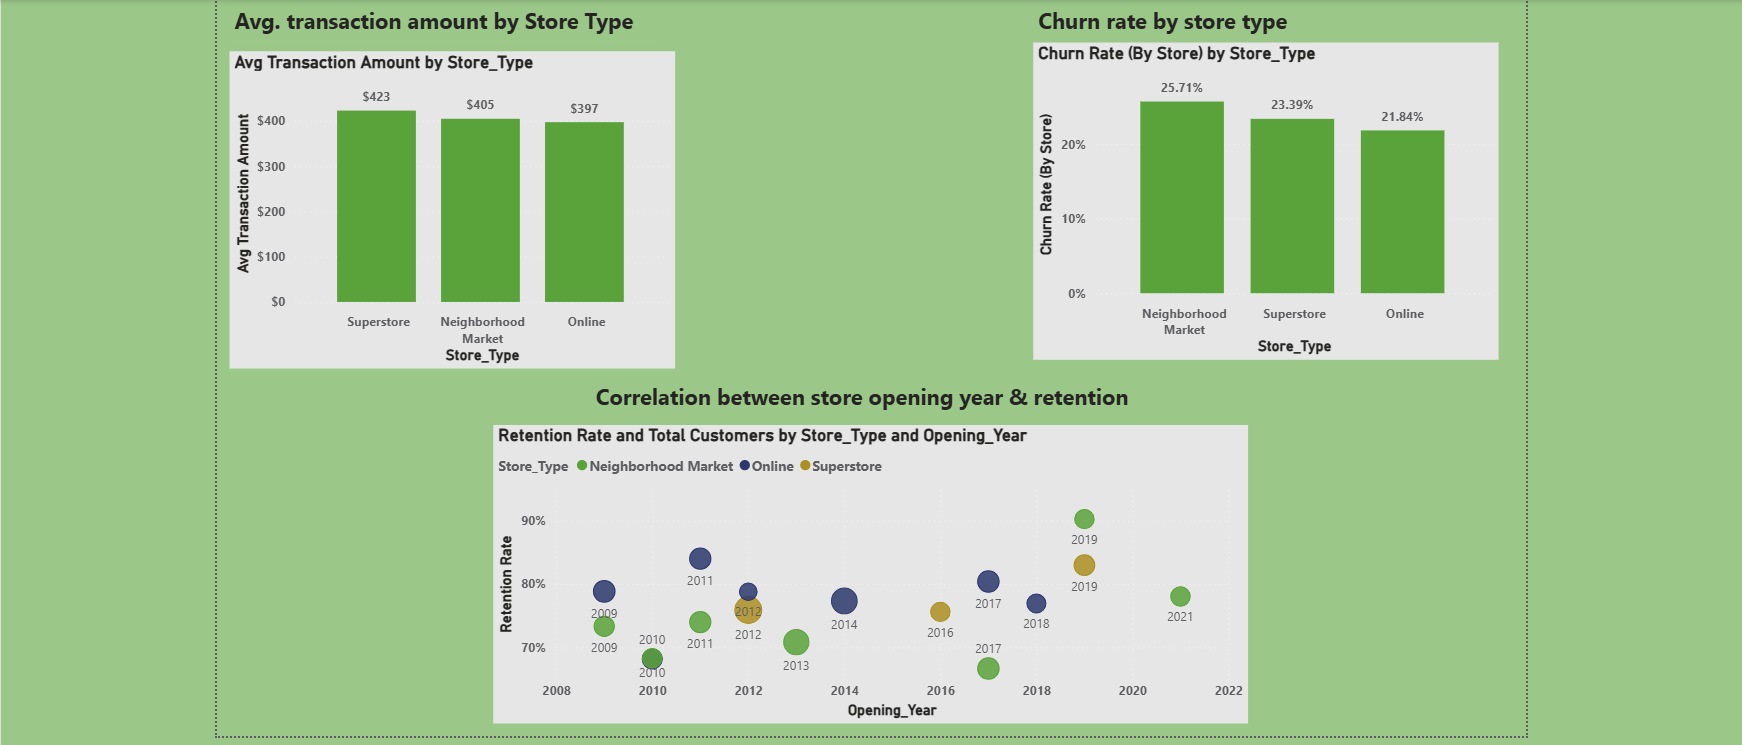

This screenshot's page, from the dashboard's own definition file:
{"tool":"powerbi","page":{"name":"Task 5","canvas":[1280,720],"ordinal":3},"visuals":[{"type":"clusteredColumnChart","fields":{"Y":["measures .Avg Transaction Amount"],"Category":["Store_Locations.Store_Type"]},"box":[12.8,50,435.9,310.3],"z":0},{"type":"clusteredColumnChart","fields":{"Category":["Store_Locations.Store_Type"],"Y":["measures .Churn Rate (By Store)"]},"box":[798.7,41,455.1,310.3],"z":1000},{"type":"scatterChart","fields":{"X":["Store_Locations.Opening_Year"],"Y":["measures .Retention Rate"],"Series":["Store_Locations.Store_Type"],"Size":["measures .Total Customers (By Store)"]},"box":[270.5,415.4,738.5,292.3],"z":2000},{"type":"textbox","box":[12.8,0,419.2,41],"z":3000},{"type":"textbox","box":[798.7,0,276.9,41],"z":4000},{"type":"textbox","box":[365.4,367.9,550,47.4],"z":5000}]}

Visuals, with their boxes on the page's 1280x720 design canvas (x1, y1, x2, y2). These are canvas units, not pixel positions in the 1742x745 screenshot, which may show the page scaled, cropped or inside an application window:
clusteredColumnChart - measures .Avg Transaction Amount x Store_Locations.Store_Type: [x1=13, y1=50, x2=449, y2=360]
clusteredColumnChart - Store_Locations.Store_Type x measures .Churn Rate (By Store): [x1=799, y1=41, x2=1254, y2=351]
scatterChart - Store_Locations.Opening_Year x measures .Retention Rate: [x1=270, y1=415, x2=1009, y2=708]
textbox: [x1=13, y1=0, x2=432, y2=41]
textbox: [x1=799, y1=0, x2=1076, y2=41]
textbox: [x1=365, y1=368, x2=915, y2=415]
